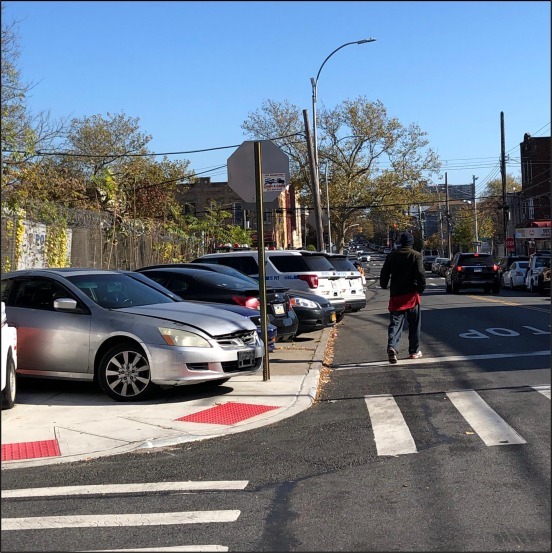Car: (7, 264, 264, 400), (137, 251, 300, 346), (199, 245, 351, 321), (443, 248, 509, 298)
Person: (386, 228, 434, 368)
